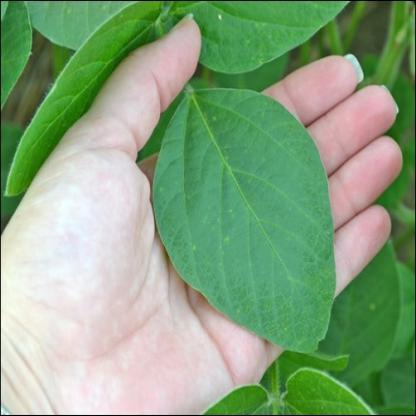Soyabean leaf: (154, 85, 338, 355)
